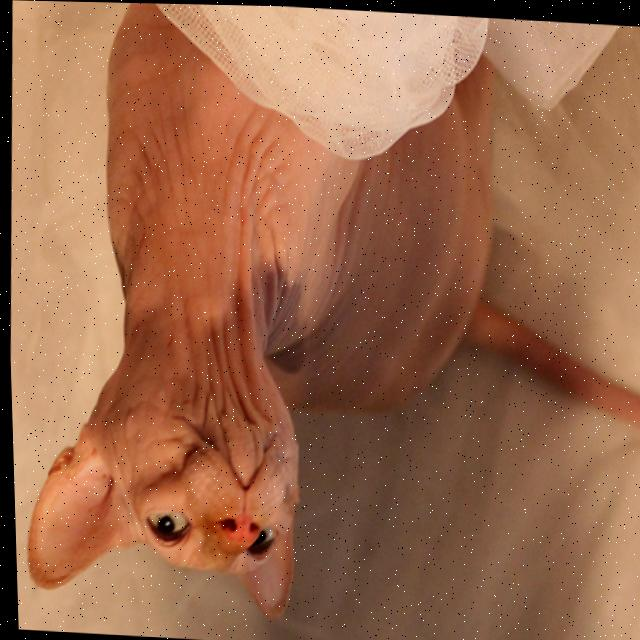Sphynx: (2, 0, 640, 640)
